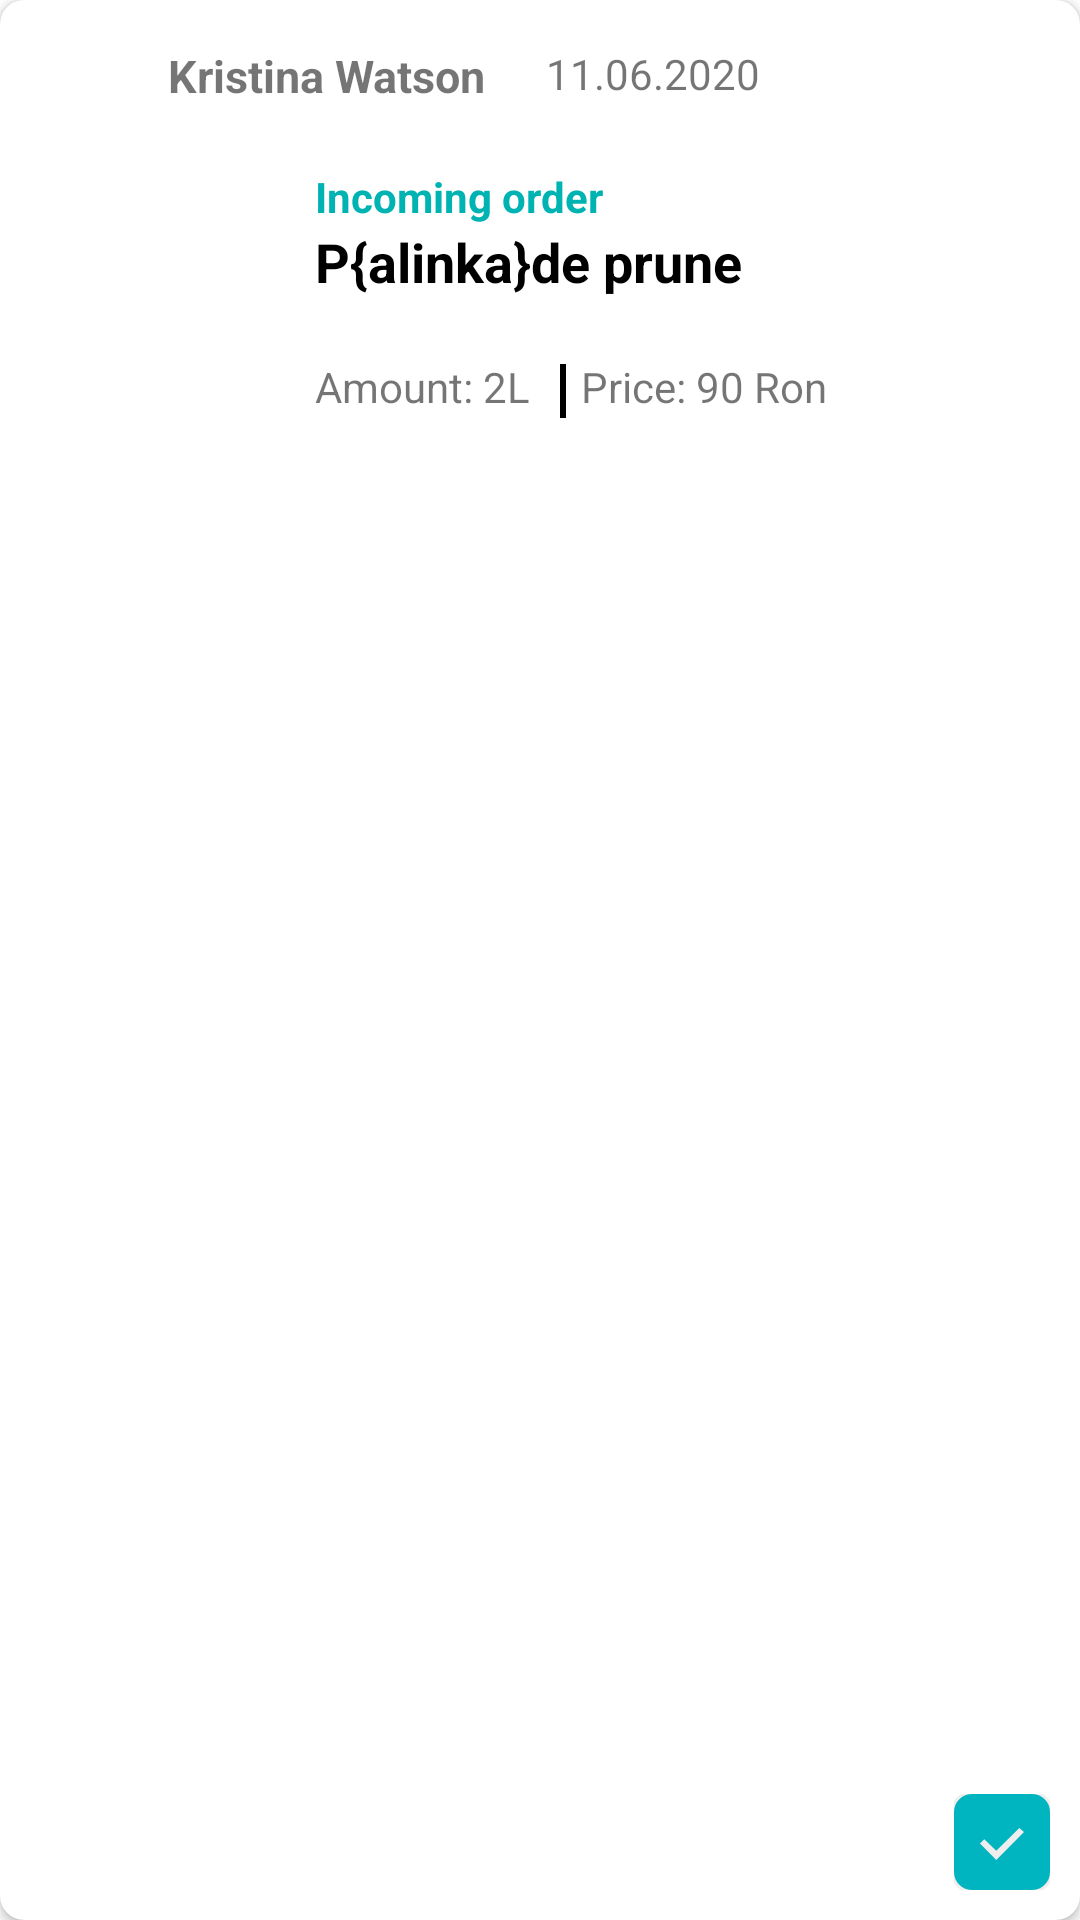

Point at icon controls on the screen. Image size 1080px×1920px, points as point (x, y).
accept: point (1002, 1842)
